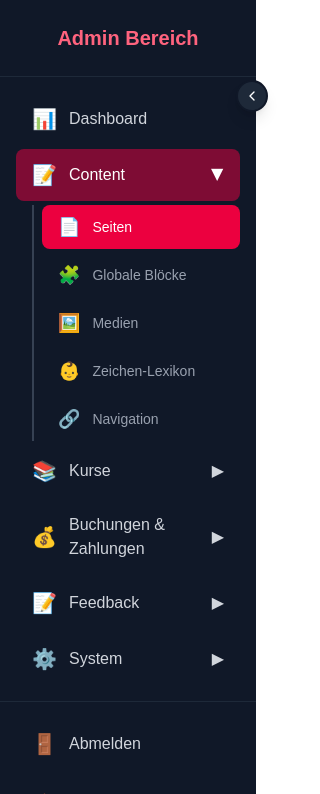
Test: AdminSidebar (gemischter State: Pathname-abgeleitet + Toggle) › schaltet ein Untermenü per Klick um (user-gesteuerter State)
Click the button "📚 Kurse ▶" at (128, 471), box x1=16 y1=445 x2=240 y2=497
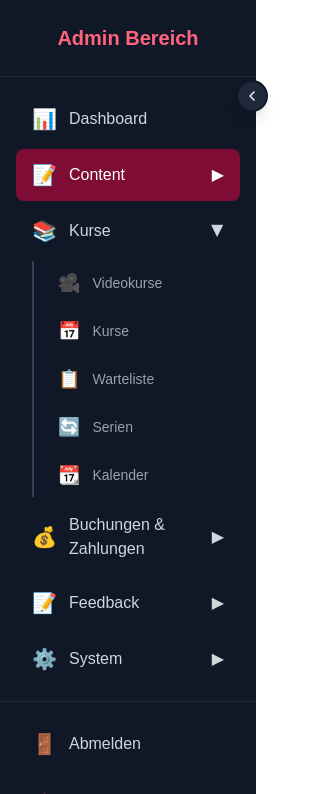
Expected: the link "🎥 Videokurse" is shown, x1=58 y1=273 x2=162 y2=293
# Erneuter Klick schließt sie wieder.
Click the button "📚 Kurse ▶" at (128, 231), box x1=16 y1=205 x2=240 y2=257
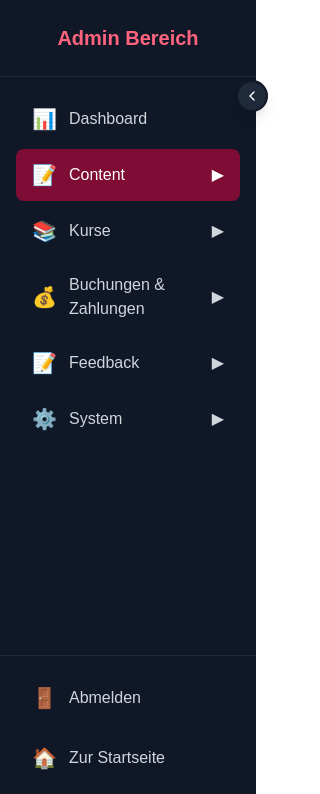
Expected: the link "Videokurse" is gone
